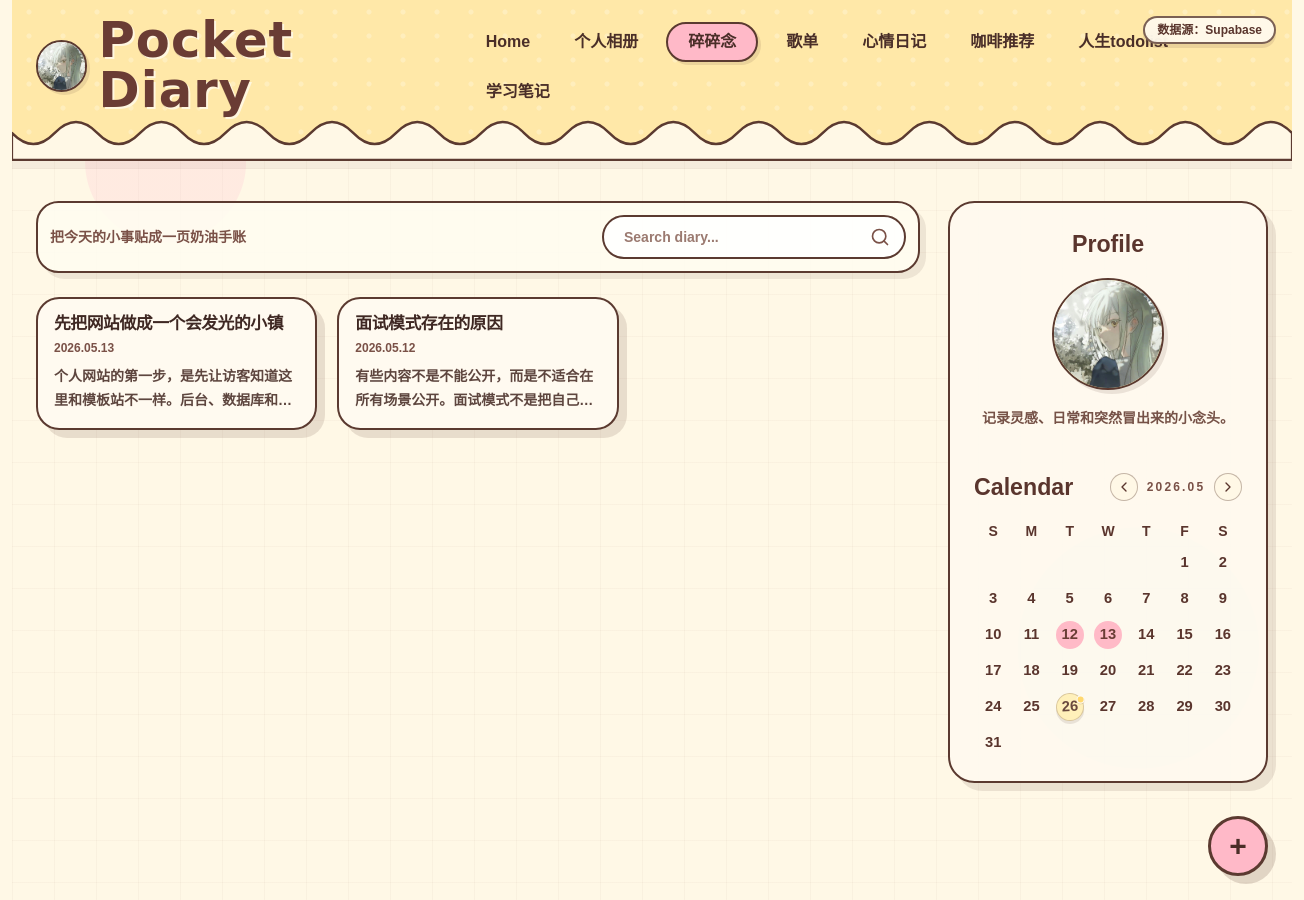
Test: content module pages › searches thoughts and shows an empty state when nothing matches
In the search field named "搜索碎碎念": (754, 237) top-left (602, 215), bottom-right (906, 259), type "模板站"
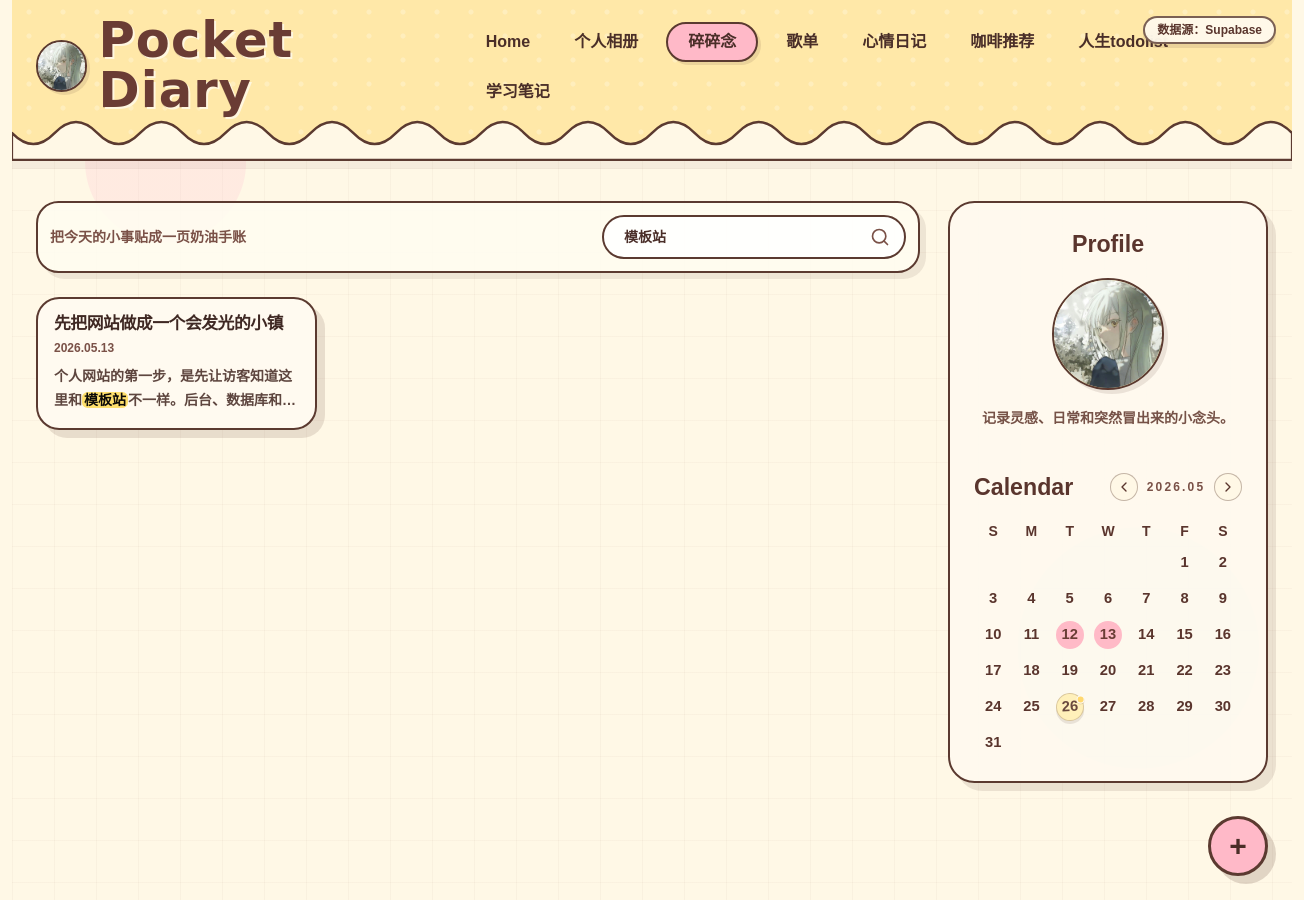
Check: the heading "先把网站做成一个会发光的小镇" is shown, box top-left (54, 311), bottom-right (299, 336)
Check: the link "面试模式存在的原因" is gone
Replace the text in the search field named "搜索碎碎念" with "没有这条碎碎念": (754, 237) top-left (602, 215), bottom-right (906, 259)
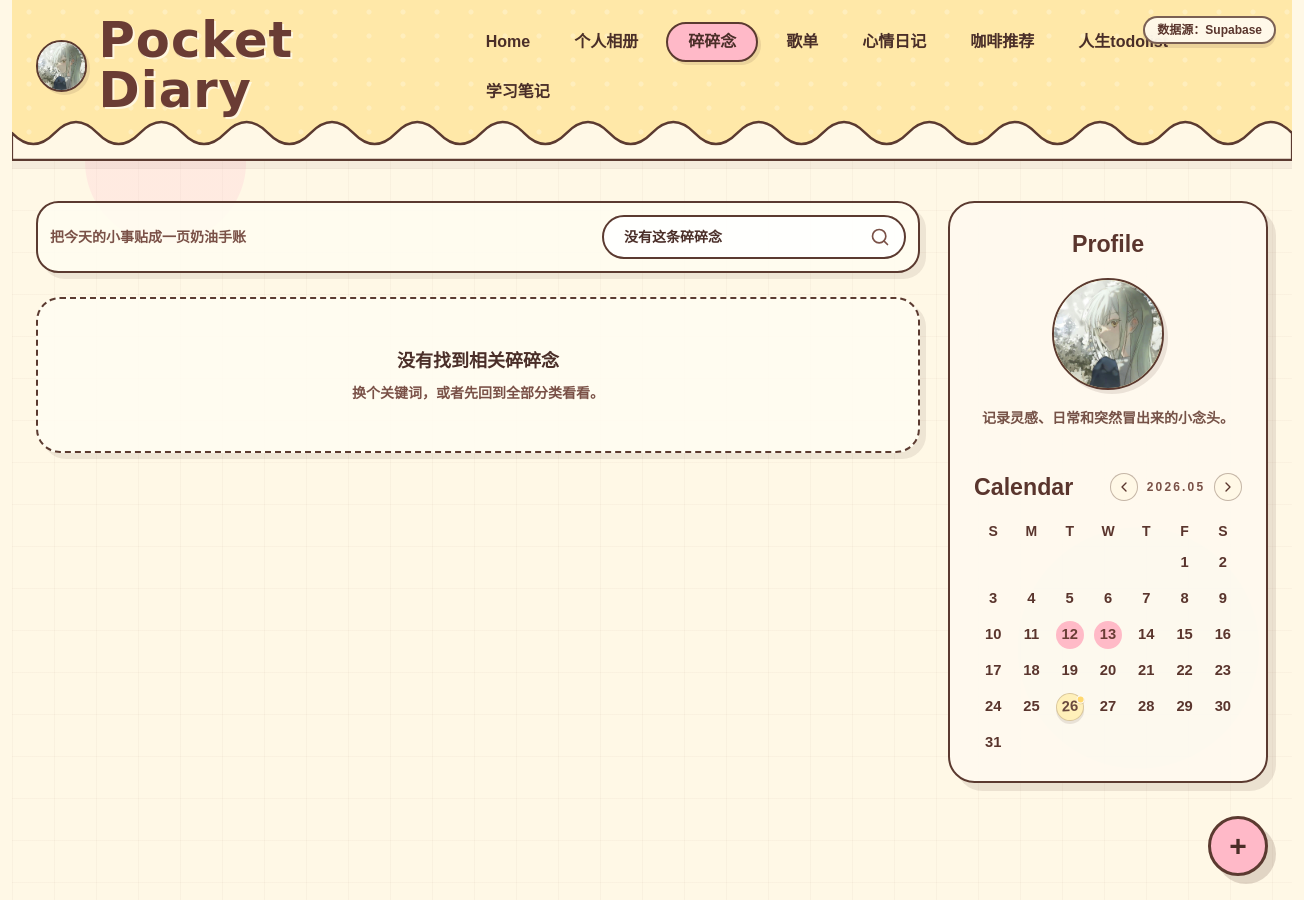
Check: the link "先把网站做成一个会发光的小镇" is gone
Check: the text "没有找到相关碎碎念" is shown, box top-left (397, 351), bottom-right (559, 371)
Check: the text "换个关键词，或者先回到全部分类看看。" is shown, box top-left (352, 385), bottom-right (604, 401)
